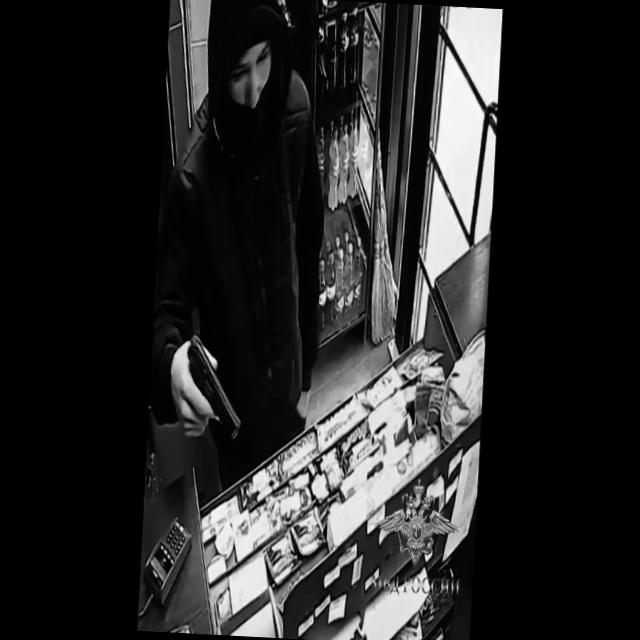gun: (180, 318, 248, 444)
person with a gun: (143, 0, 334, 475)
